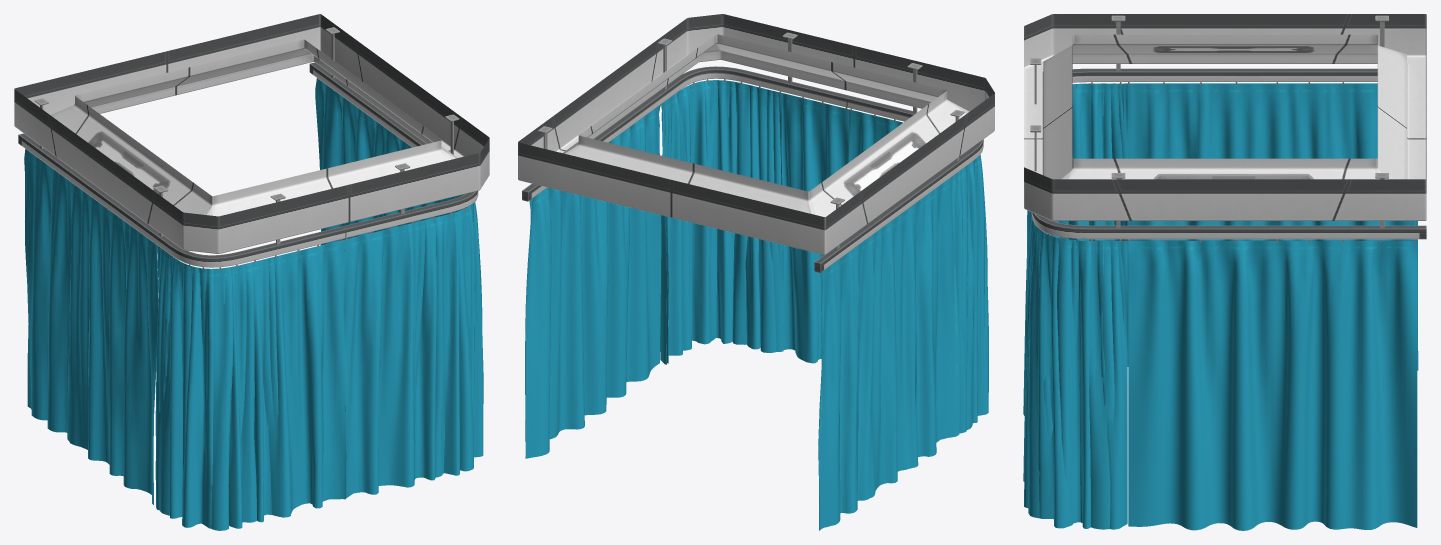
The model's file is MedDivider02_2.FBX.
3 views of the same model, side by side, from view 1: azimuth 30°, elevation 25°; view 2: azimuth 150°, elevation 25°; view 3: azimuth 270°, elevation 25° (orthographic). The views are drawn at different scales.
Parts seen in each view (by area): view 1: Curtain2_2, Base2, Curtain2_1, Curtain2_3, Profile2; view 2: Curtain2_1, Base2, Curtain2_2, Curtain2_3, Profile2; view 3: Curtain2_1, Base2, Curtain2_3, Curtain2_2, Profile2.
Part boxes in pixels (left/top/right/bottom): Curtain2_2: left=159, top=194, right=478, bottom=530; Base2: left=14, top=14, right=489, bottom=253; Curtain2_1: left=24, top=78, right=446, bottom=504; Curtain2_3: left=155, top=194, right=483, bottom=528; Profile2: left=18, top=27, right=478, bottom=269; Curtain2_1: left=525, top=105, right=959, bottom=530; Base2: left=518, top=14, right=994, bottom=254; Curtain2_2: left=662, top=80, right=984, bottom=429; Curtain2_3: left=660, top=80, right=988, bottom=433; Profile2: left=522, top=32, right=983, bottom=272; Curtain2_1: left=1124, top=83, right=1418, bottom=530; Base2: left=1024, top=14, right=1426, bottom=220; Curtain2_3: left=1024, top=83, right=1127, bottom=529; Curtain2_2: left=1023, top=83, right=1123, bottom=529; Profile2: left=1030, top=15, right=1426, bottom=242.
Size of what is drawn, in the model's own units: 3.42 by 3.37 by 3.5.
